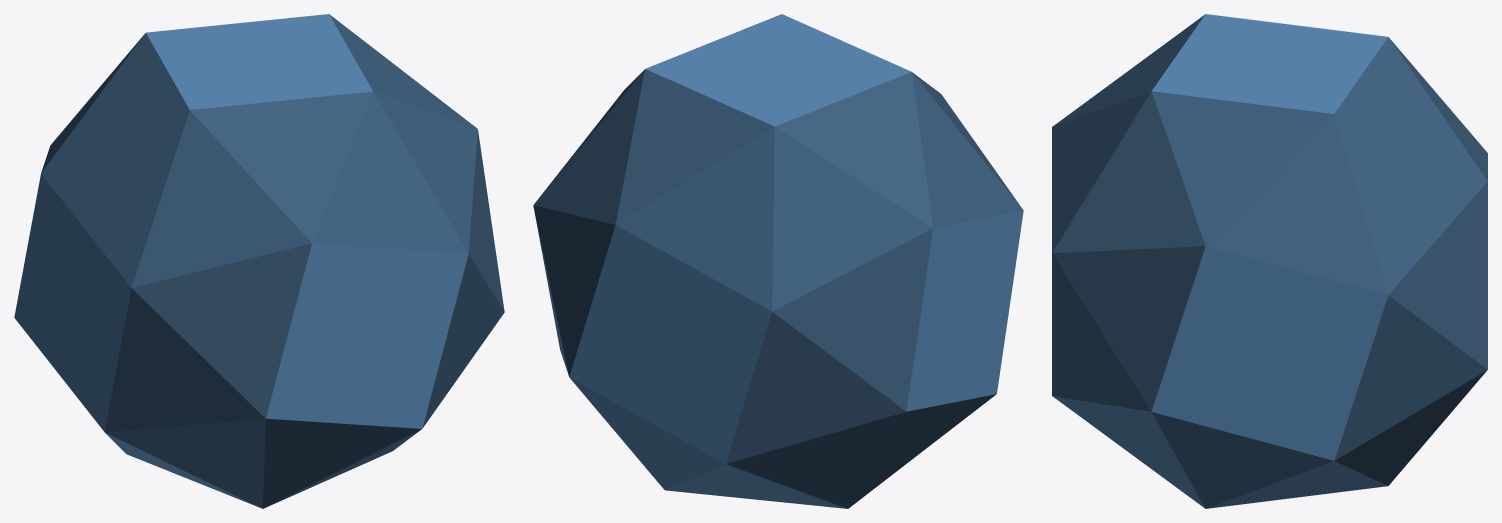
File: 17.CuboSnub.gltf
3 renders of one model, left to right at view 1: azimuth 30°, elevation 25°; view 2: azimuth 150°, elevation 25°; view 3: azimuth 270°, elevation 25°, orthographic.
Visible parts, largest first — view 1: Solid.001; view 2: Solid.001; view 3: Solid.001.
Boxes of the visible parts, x1=… form: Solid.001: x1=14, y1=14, x2=504, y2=508; Solid.001: x1=533, y1=14, x2=1023, y2=508; Solid.001: x1=1052, y1=14, x2=1487, y2=508.
Bounding box in the file's own units: 1.15 × 1.15 × 1.15.
